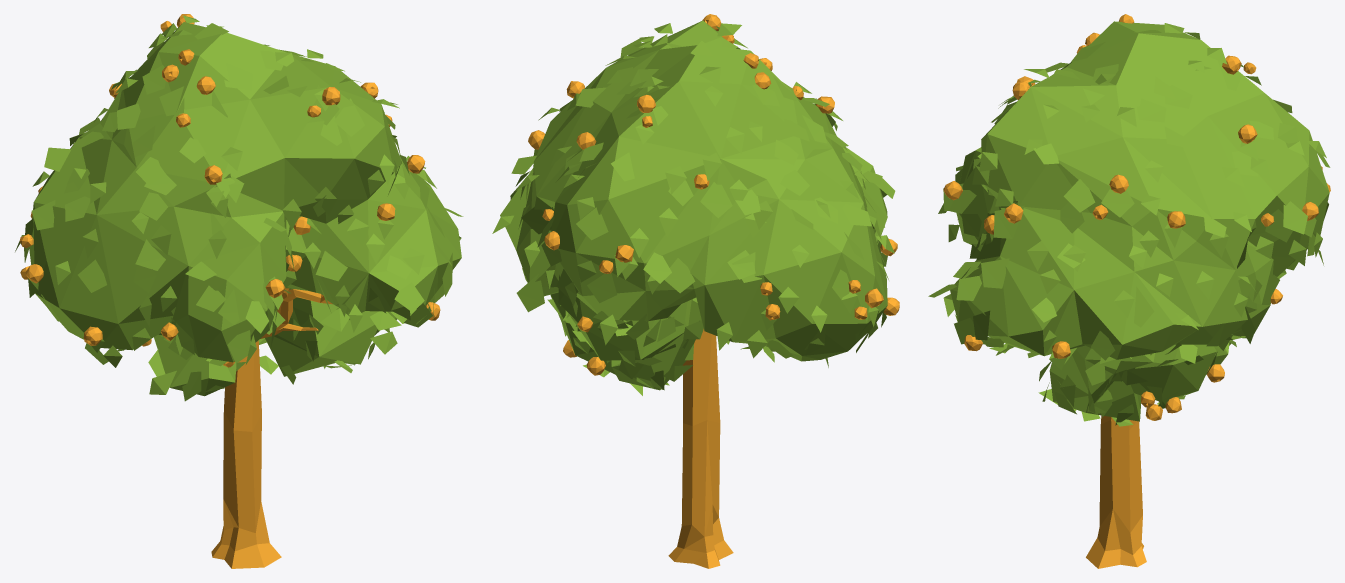
The model's file is SM_Tree_Apple_Ripe_B.fbx.
3 views of the same model, side by side, from view 1: azimuth 30°, elevation 25°; view 2: azimuth 150°, elevation 25°; view 3: azimuth 270°, elevation 25° (orthographic).
Visible parts, largest first — view 1: tree-apple-ripe-b; view 2: tree-apple-ripe-b; view 3: tree-apple-ripe-b.
Part boxes in pixels (bbox=[...]): tree-apple-ripe-b: bbox=[15, 14, 463, 568]; tree-apple-ripe-b: bbox=[492, 14, 899, 568]; tree-apple-ripe-b: bbox=[928, 14, 1330, 568].
Size of the model in its own units: 4.38 by 5.64 by 3.97.
